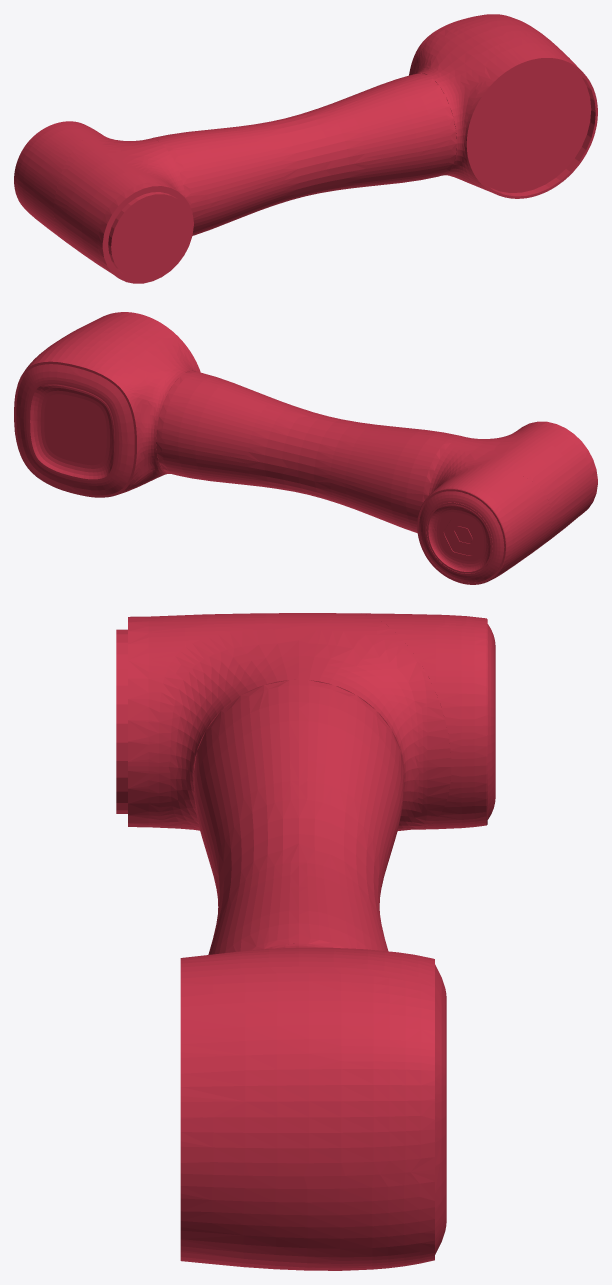
3 renders of one model, top to bottom at view 1: azimuth 30°, elevation 25°; view 2: azimuth 150°, elevation 25°; view 3: azimuth 270°, elevation 25°, orthographic. The views are drawn at different scales.
Parts seen in each view (by area): view 1: Link3_001-mesh; view 2: Link3_001-mesh; view 3: Link3_001-mesh.
Boxes of the visible parts, x1,y1,x2,y2 form: Link3_001-mesh: [14, 14, 597, 283]; Link3_001-mesh: [14, 312, 597, 584]; Link3_001-mesh: [116, 613, 495, 1270].
Size of the model in its own units: 0.4608 by 0.1228 by 0.1475.
